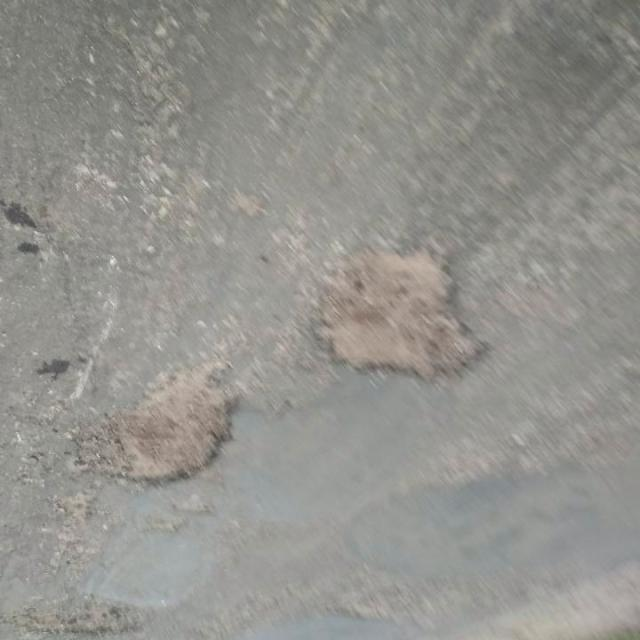pothole: (301, 222, 503, 410), (47, 358, 251, 520)
